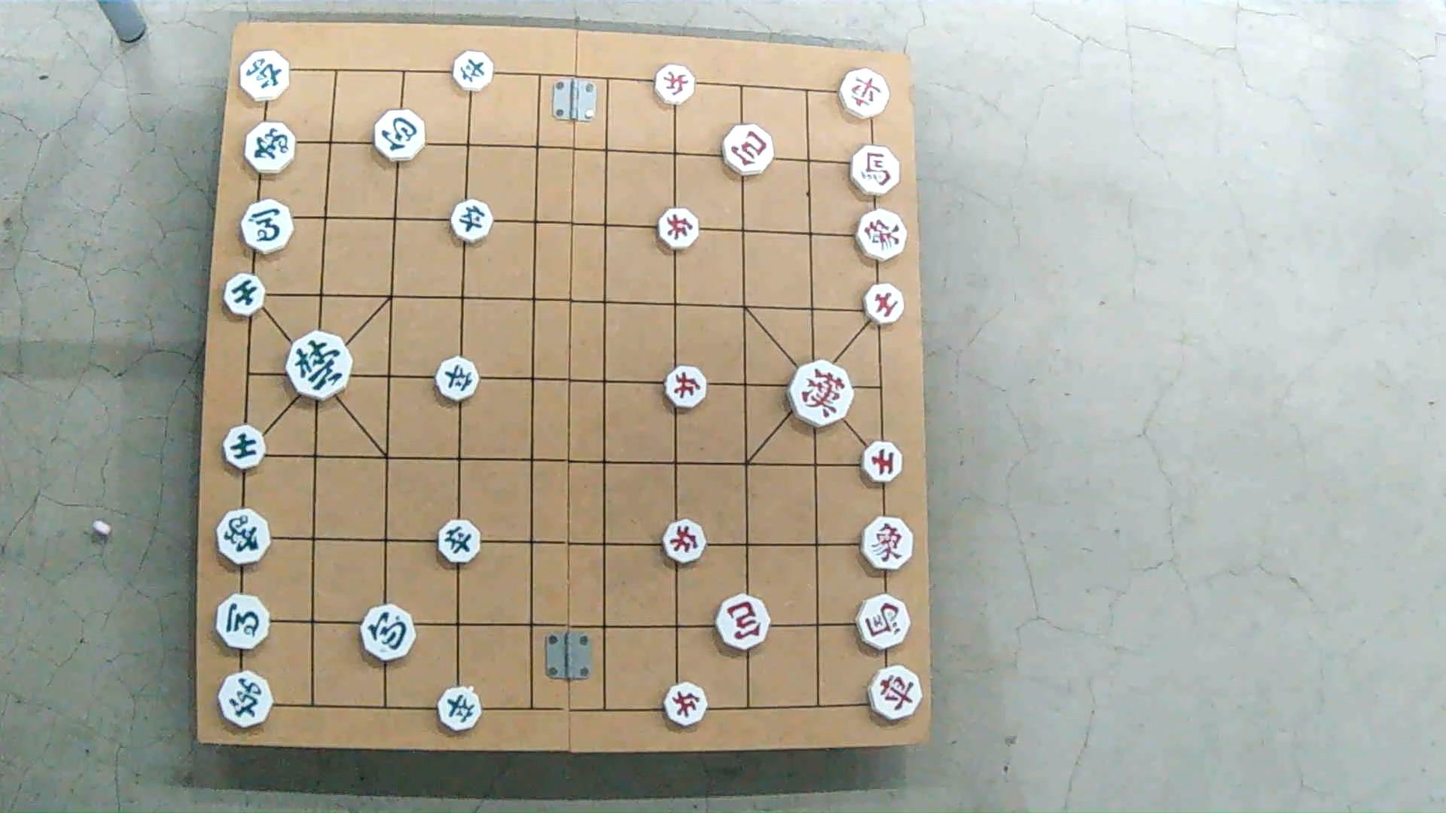cha_green: (218, 673, 278, 728), (239, 50, 291, 105)
cha_red: (869, 665, 922, 720), (839, 72, 889, 117)
jol_green: (436, 689, 483, 732), (437, 358, 484, 400), (434, 522, 479, 564), (453, 202, 496, 244), (453, 51, 496, 90)
jol_red: (663, 684, 706, 726), (660, 368, 704, 409), (654, 209, 699, 249), (664, 522, 707, 563), (650, 66, 694, 105)
ma_green: (218, 594, 271, 648), (240, 202, 294, 253)
ma_red: (856, 590, 912, 650), (849, 142, 901, 195)
po_green: (362, 604, 417, 659), (374, 112, 426, 161)
po_red: (714, 596, 768, 650), (721, 125, 773, 174)
sa_green: (222, 276, 266, 318), (222, 428, 266, 469)
sa_red: (864, 441, 905, 482), (866, 283, 906, 321)
sang_green: (218, 507, 270, 567), (244, 123, 298, 176)
sang_red: (861, 518, 916, 569), (856, 206, 905, 259)
wang_green: (288, 333, 354, 397)
wang_red: (787, 364, 852, 427)
